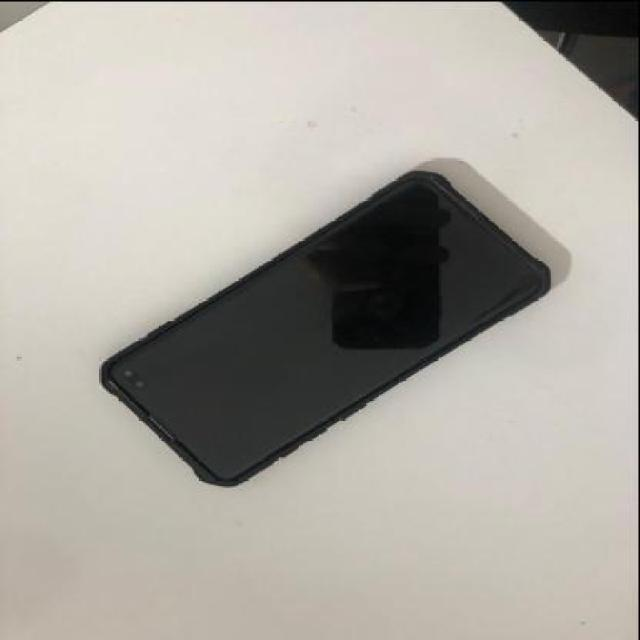mobile: (104, 169, 554, 486)
